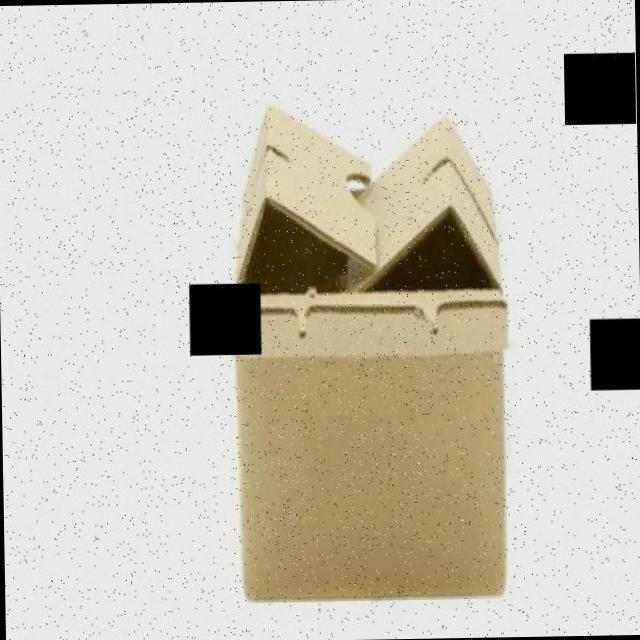box: (214, 103, 516, 619)
